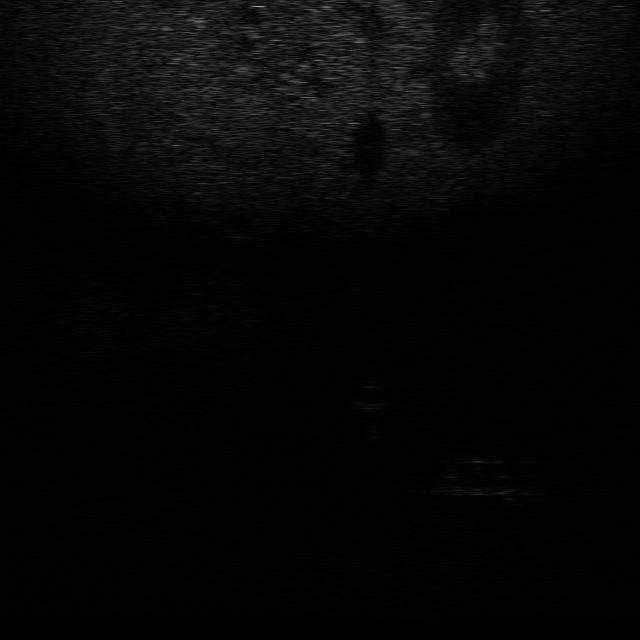ball: (342, 378, 397, 413)
tyre: (429, 458, 525, 502)
